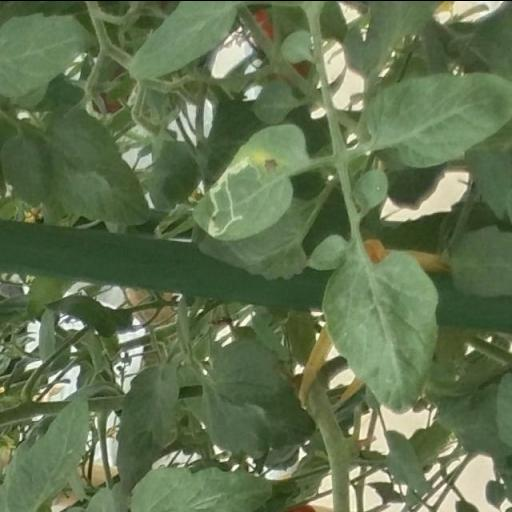Healthy: (320, 250, 446, 410), (358, 72, 512, 174), (128, 0, 242, 80)
Leaf Miner: (190, 124, 312, 238)
